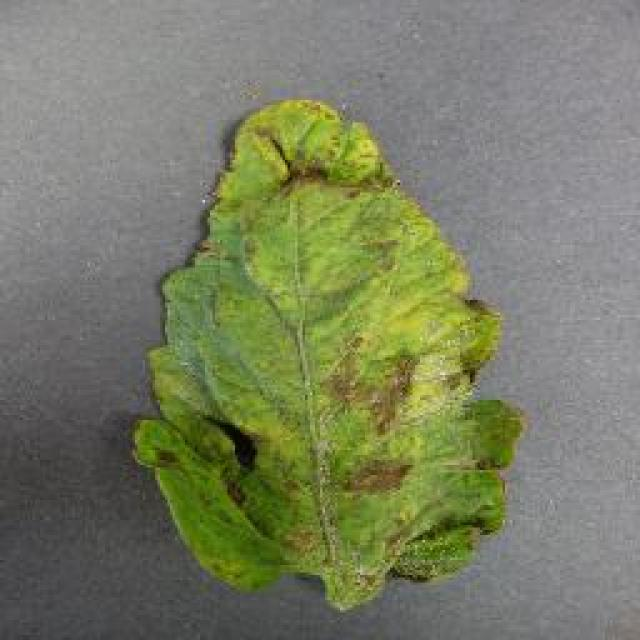Tomato___Bacterial_spot: (122, 97, 528, 616)
